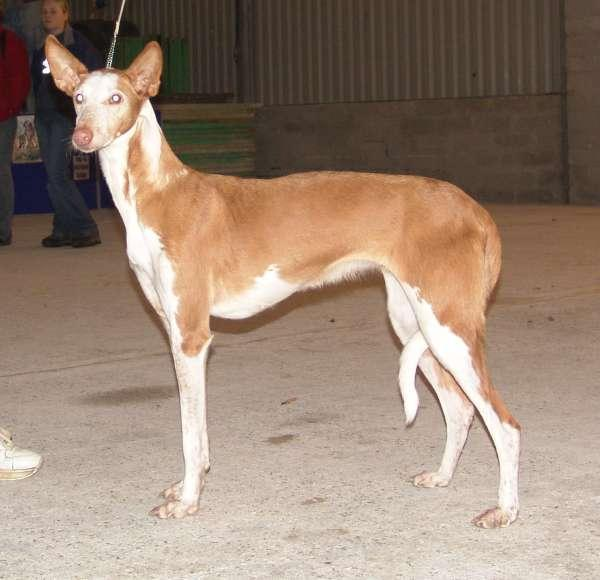Ibizan_hound: (42, 31, 525, 533)
